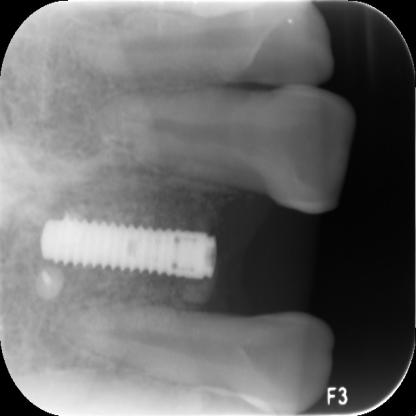ITI: (40, 215, 219, 282)
